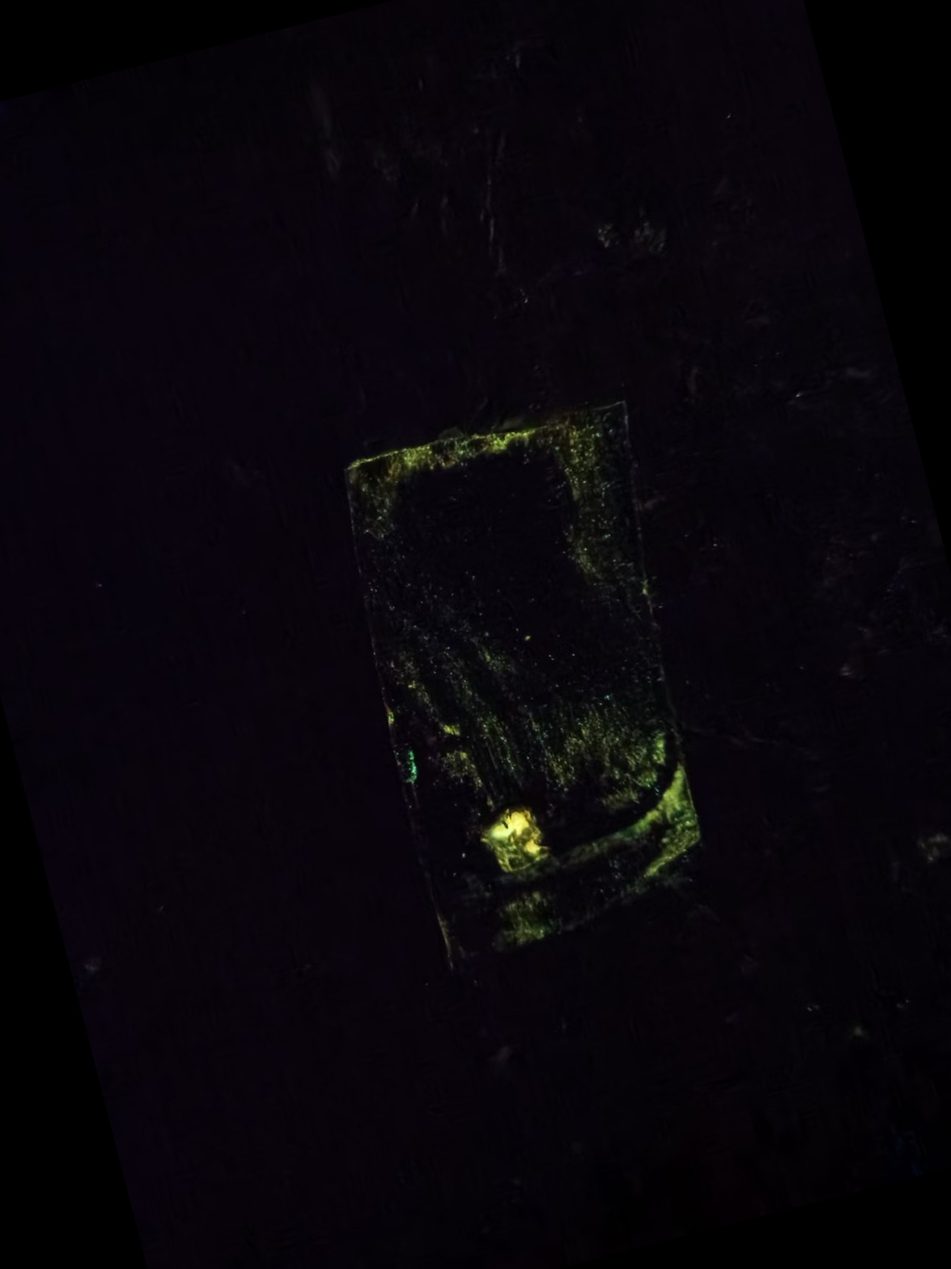Crater: (446, 772, 576, 897)
